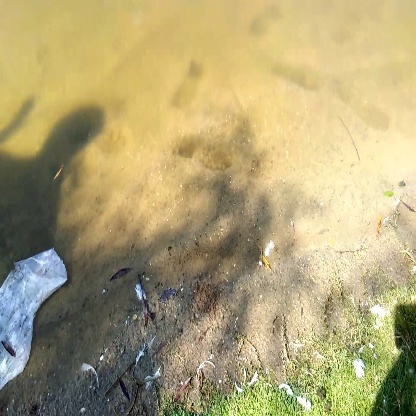plastic-bag: (1, 248, 72, 395)
